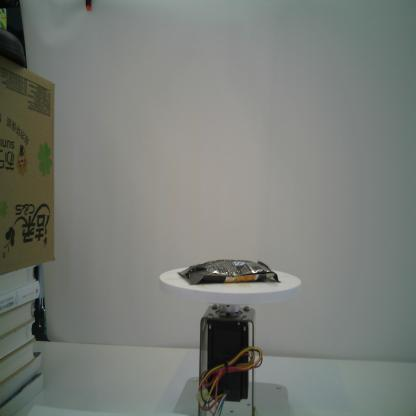Instant Drink: (178, 258, 281, 286)
